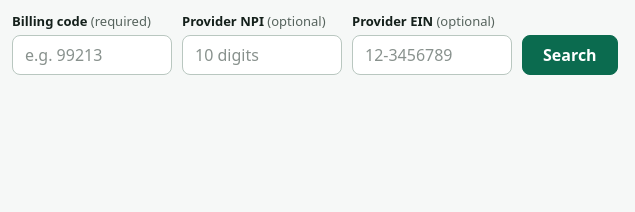
Scenario: the arrow keys pick from the list and Enter searches for the pick
The image size is (635, 212).
Type "992" into the dropdown labelled "Billing code (required)". click: x=92, y=55
box: [12, 35, 172, 75]
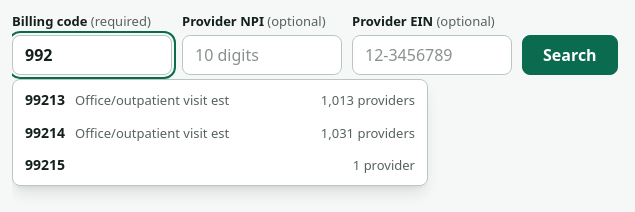
Press Arrowdown Arrowdown
Check: the option "99214 Office/outpatient visit est 1,031 providers" is shown, box [13, 116, 427, 149]
Press Enter
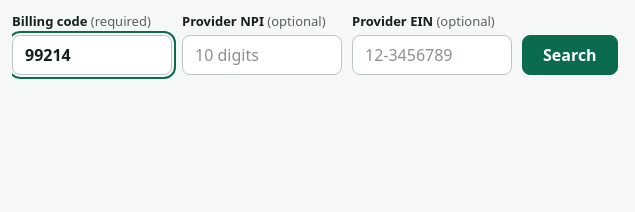
Check: the dropdown labelled "Billing code (required)" holds "99214", box [12, 35, 172, 75]
Check: the list is gone
